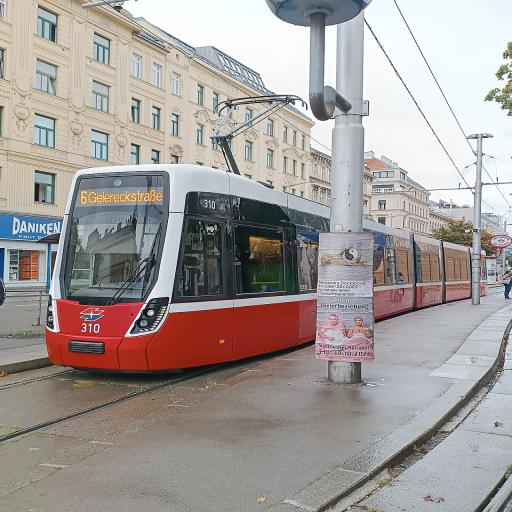Flexity: (40, 162, 491, 377)
